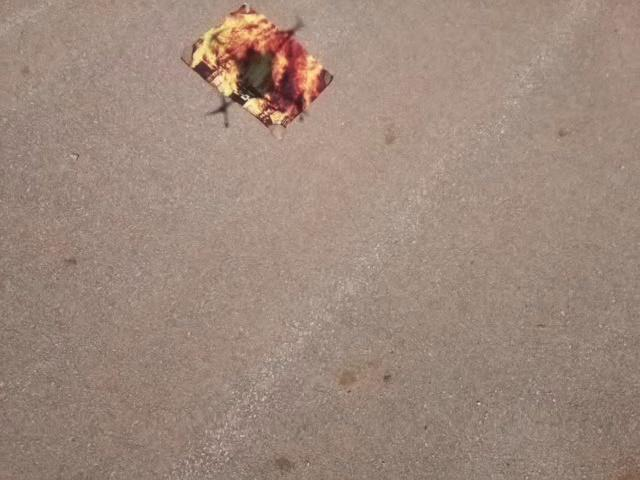fire-poster: (179, 2, 335, 138)
